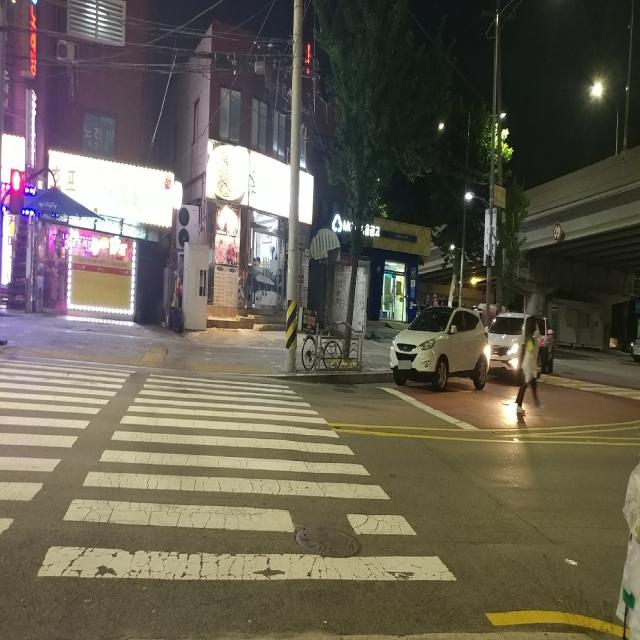빨간불: (9, 170, 23, 216)
횡단보도: (0, 357, 456, 579)
